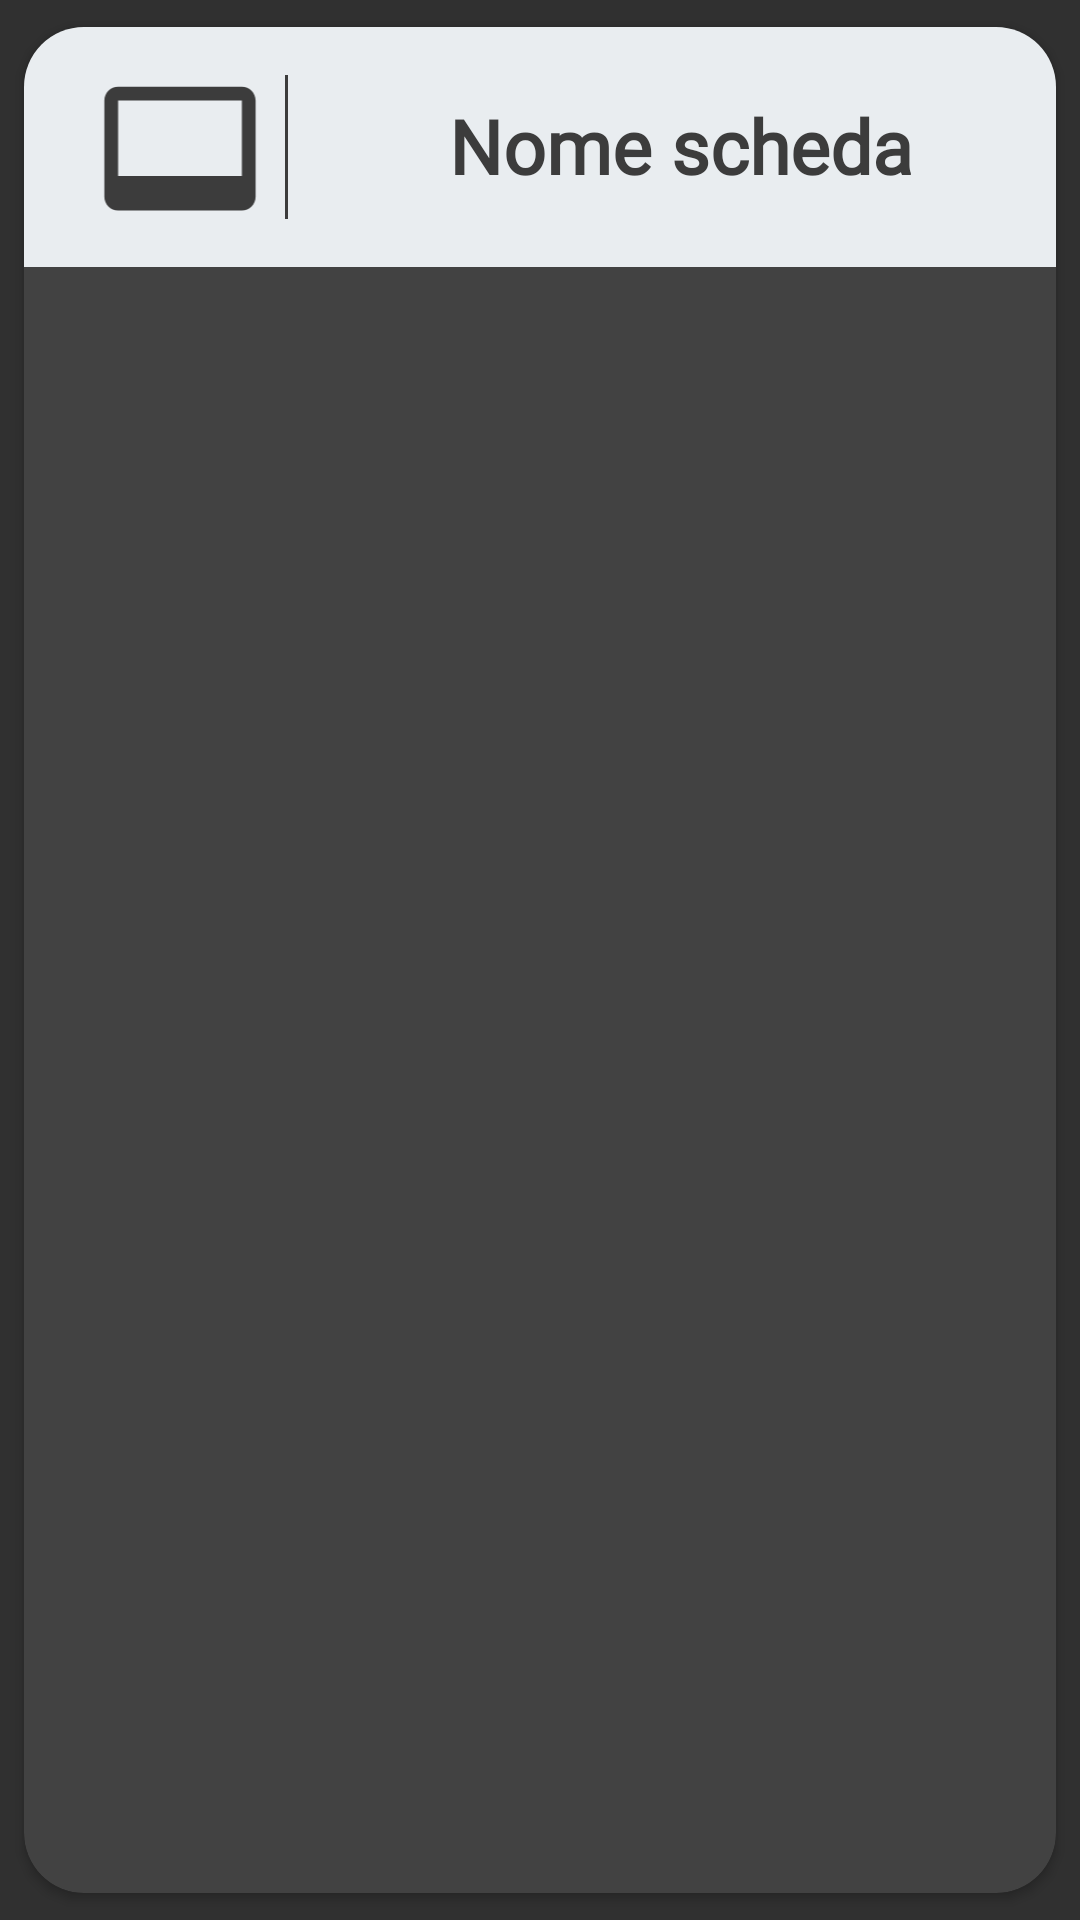

Icons on this 1080 × 1920 Android screen, each with its box as BBox(x1, y1, x2, y2):
video label: BBox(104, 86, 256, 211)
